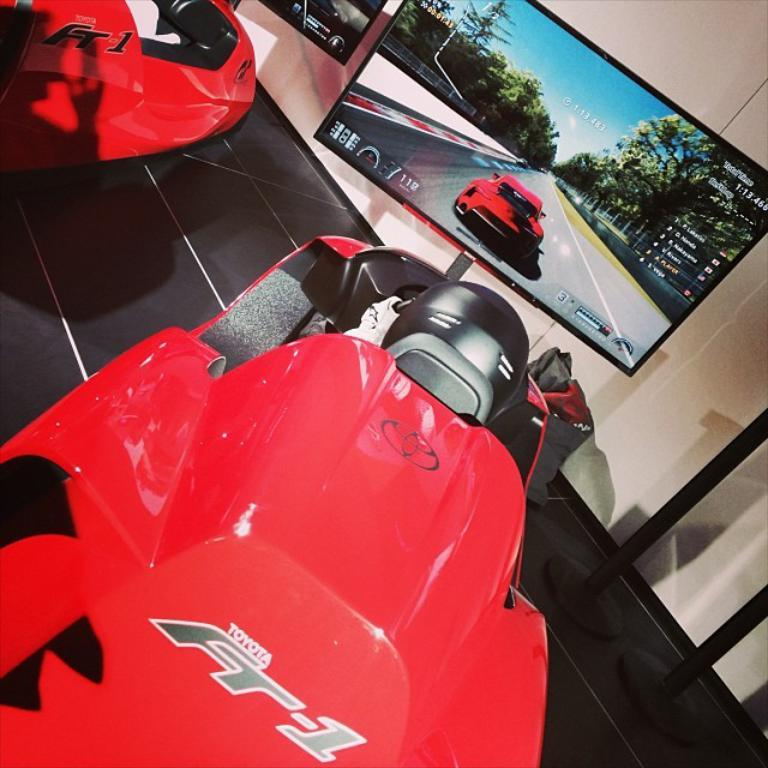helmet: (380, 280, 530, 428)
